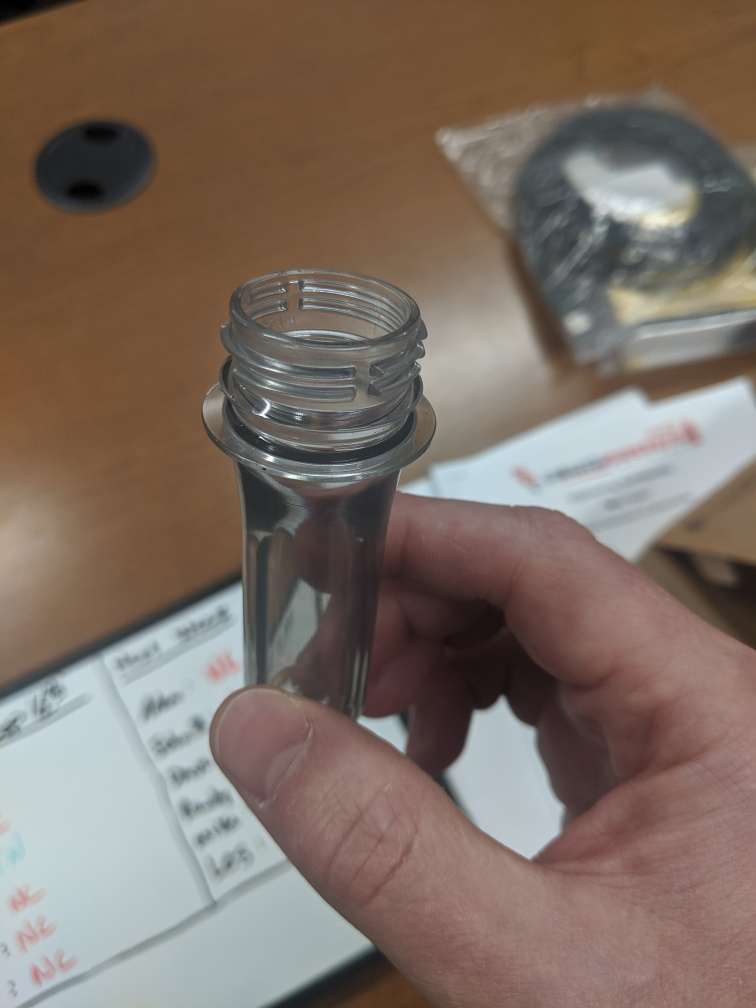preform: (193, 255, 447, 782)
